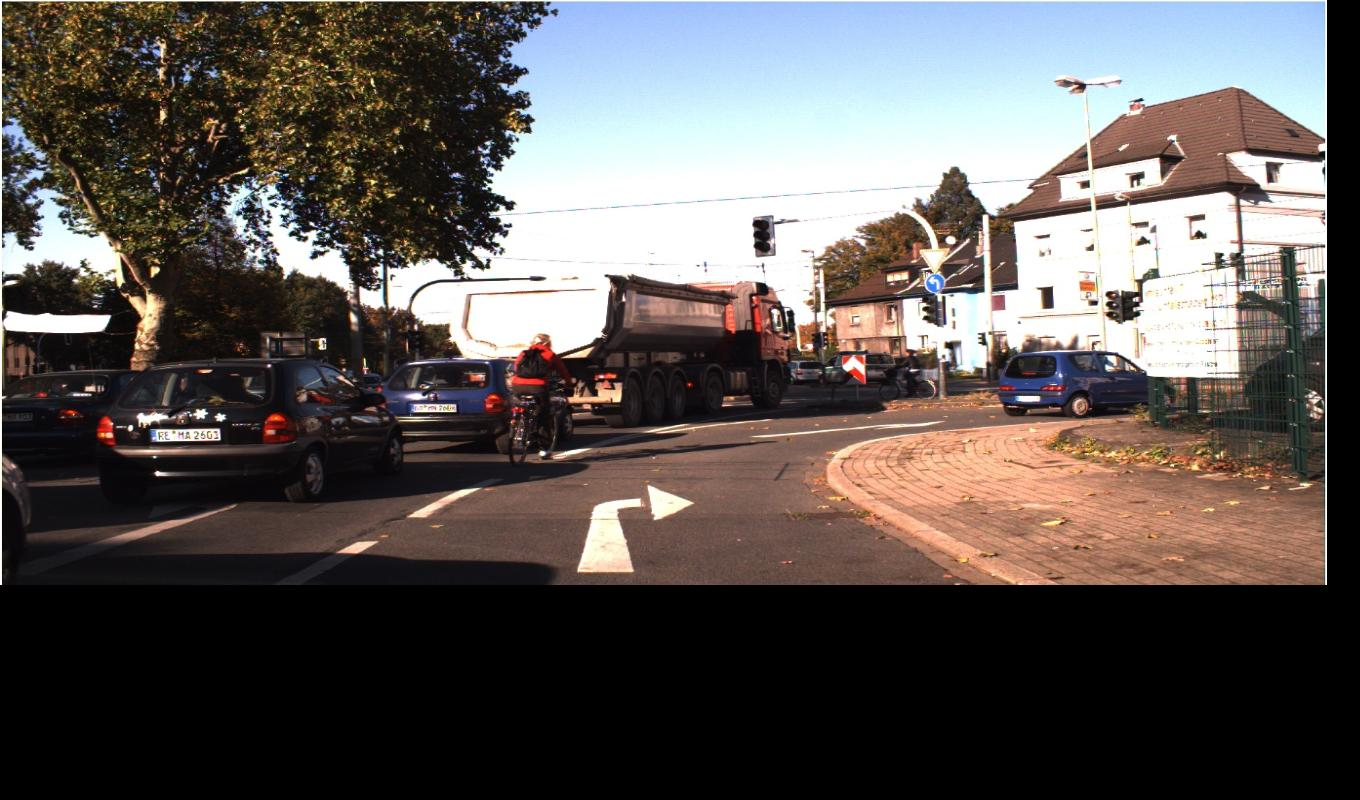go left: (918, 248, 949, 293)
